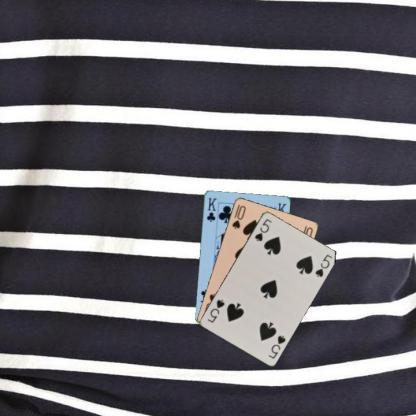10s: (229, 202, 247, 231)
5s: (252, 216, 273, 243), (266, 332, 286, 360)
Kc: (204, 196, 218, 223)
